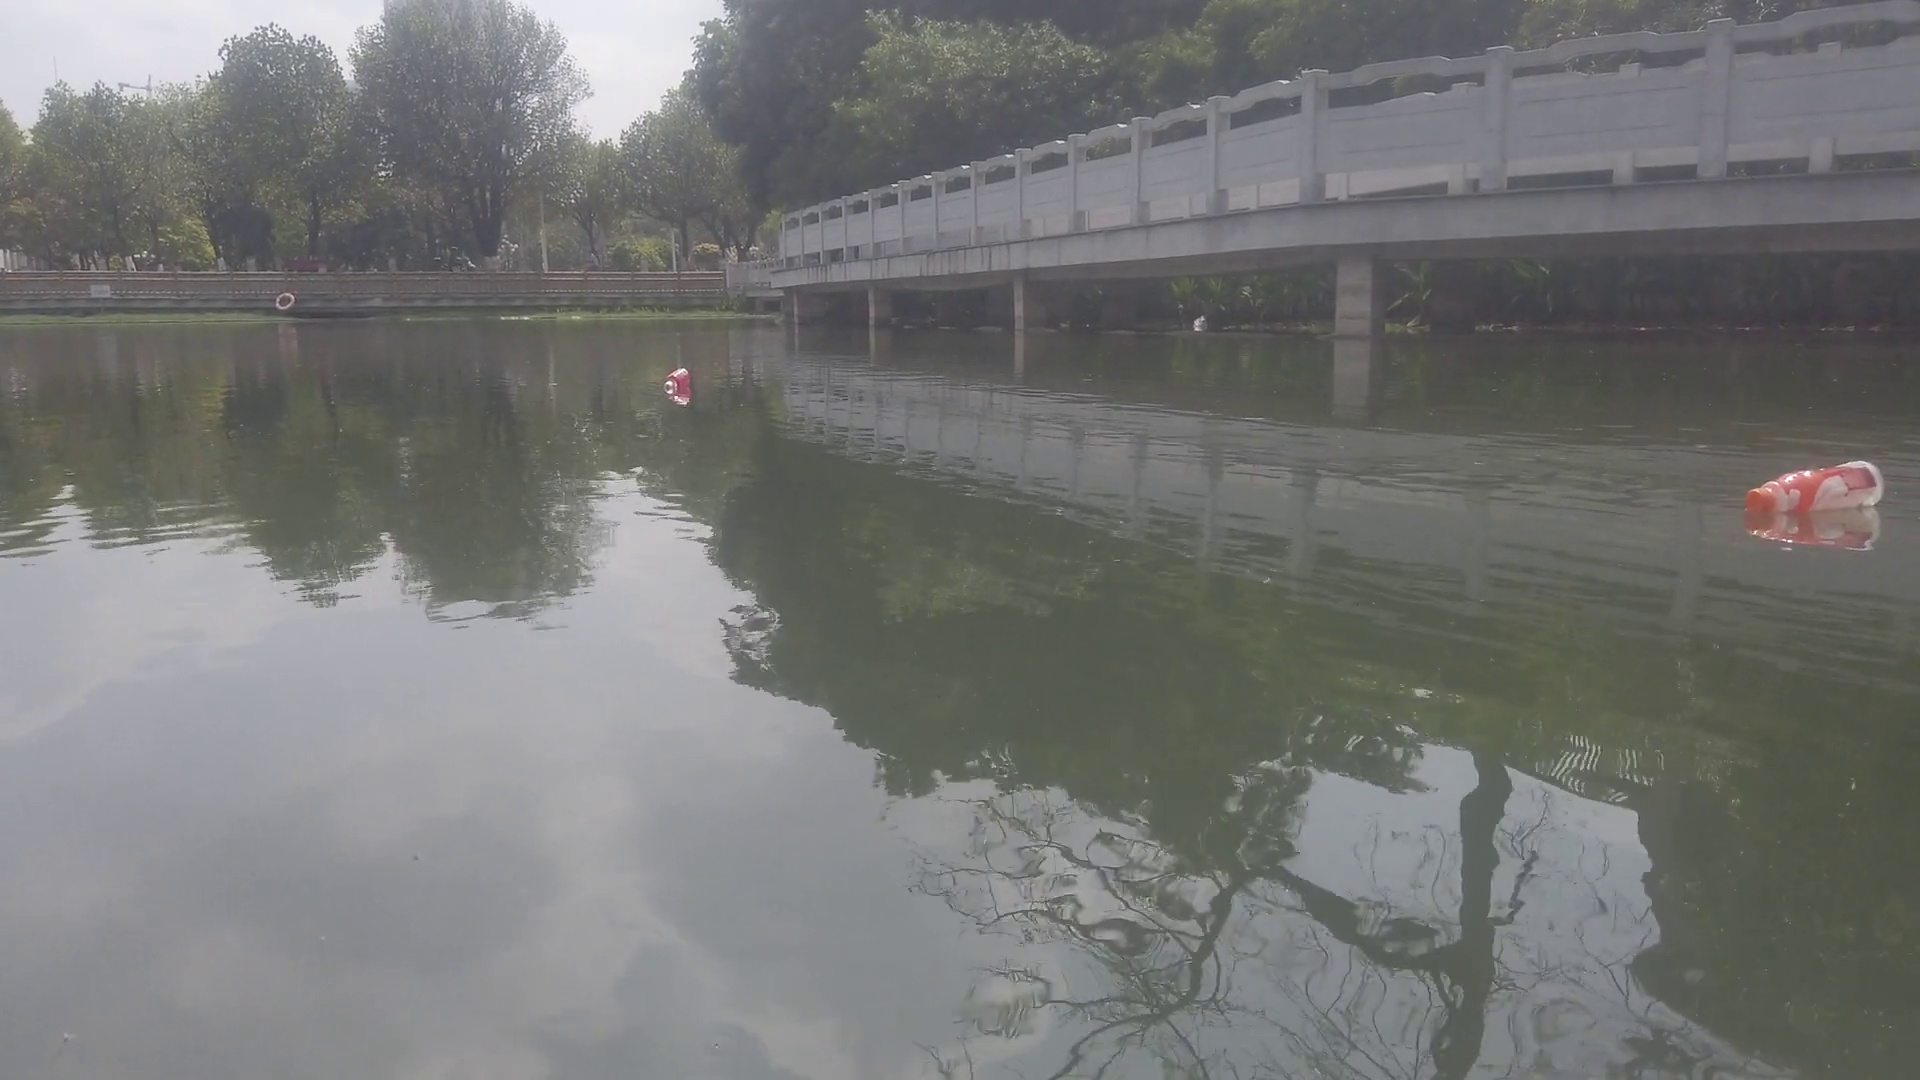bottle: (1741, 456, 1891, 521), (659, 365, 690, 397)
